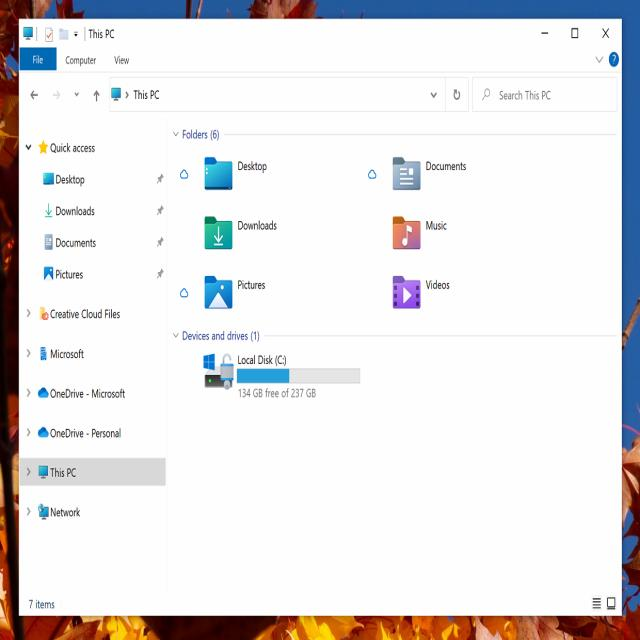button: (197, 346, 376, 408), (384, 147, 580, 199), (384, 212, 580, 264), (383, 267, 582, 317), (197, 266, 352, 318), (198, 209, 352, 259), (198, 152, 354, 199), (22, 378, 164, 412), (21, 298, 166, 330), (23, 338, 165, 369), (21, 418, 162, 448), (22, 134, 161, 164), (36, 259, 165, 291), (21, 458, 164, 486), (22, 496, 163, 524), (37, 228, 167, 256), (36, 166, 165, 193), (36, 198, 168, 223), (57, 48, 103, 72), (20, 48, 57, 72), (589, 19, 620, 46), (529, 20, 561, 46), (104, 48, 138, 72), (446, 77, 468, 111), (562, 20, 588, 46), (47, 78, 67, 111), (24, 79, 44, 110), (89, 78, 104, 113), (20, 20, 37, 46), (176, 280, 192, 304), (42, 19, 56, 46), (176, 163, 192, 186), (71, 80, 84, 108), (57, 18, 70, 46), (604, 592, 620, 614), (364, 165, 380, 186), (71, 18, 83, 46), (590, 49, 606, 70), (589, 592, 604, 614), (606, 48, 620, 70)
field: (109, 76, 445, 110), (473, 77, 616, 111)
